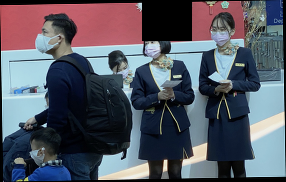with_mask: (34, 27, 58, 55), (211, 25, 231, 47), (144, 38, 162, 61), (112, 63, 130, 80), (29, 145, 43, 166)
